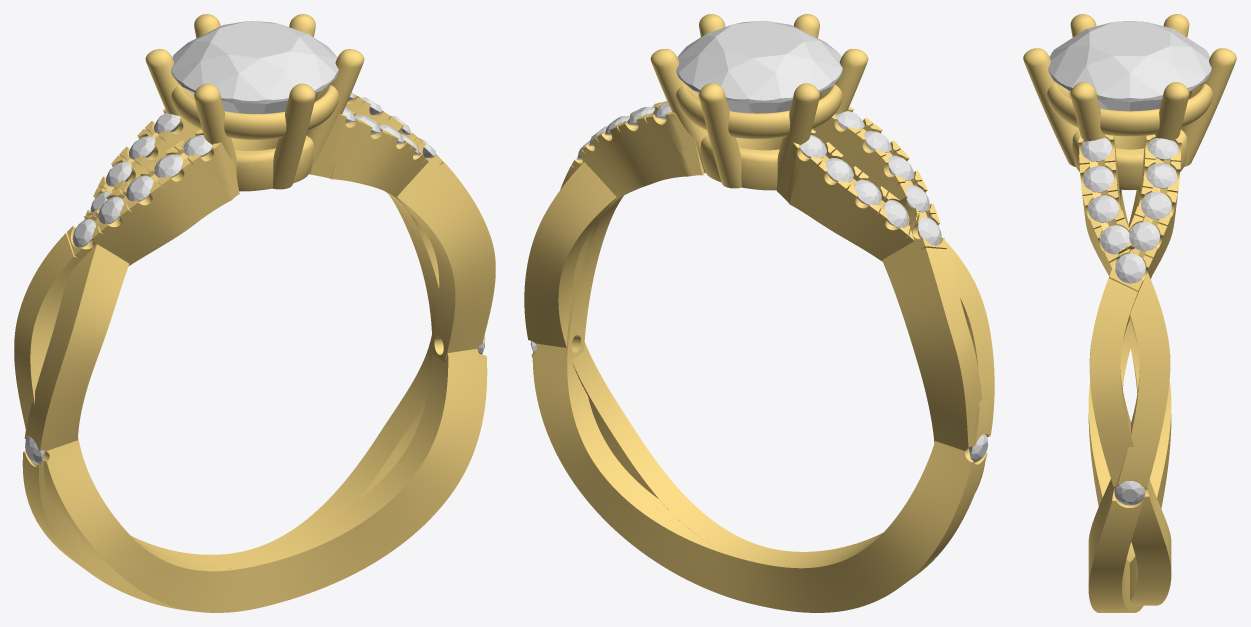
The model's file is diamond-round-yellowgold-6prong-twist-sidestones.glb.
3 renders of one model, left to right at view 1: azimuth 30°, elevation 25°; view 2: azimuth 150°, elevation 25°; view 3: azimuth 270°, elevation 25°, orthographic. The views are drawn at different scales.
Parts seen in each view (by area): view 1: metal.001, stone; view 2: metal.001, stone; view 3: metal.001, stone, side.015, side.016, side.017, side.012, side.011, side.013, side.018, side.010, side.014, side.019.
Part boxes in pixels (left/top/right/bottom): metal.001: left=14, top=14, right=495, bottom=612; stone: left=171, top=21, right=338, bottom=113; metal.001: left=524, top=14, right=994, bottom=612; stone: left=676, top=20, right=842, bottom=113; metal.001: left=1023, top=14, right=1236, bottom=612; stone: left=1048, top=21, right=1211, bottom=111; side.015: left=1115, top=253, right=1145, bottom=283; side.016: left=1129, top=222, right=1159, bottom=250; side.017: left=1141, top=192, right=1171, bottom=219; side.012: left=1088, top=195, right=1118, bottom=222; side.011: left=1100, top=225, right=1129, bottom=254; side.013: left=1083, top=166, right=1113, bottom=192; side.018: left=1146, top=163, right=1177, bottom=188; side.010: left=1114, top=481, right=1145, bottom=505; side.014: left=1081, top=137, right=1111, bottom=161; side.019: left=1148, top=138, right=1178, bottom=159.
Bounding box in the file's own units: 19.97 × 23.61 × 8.35.
